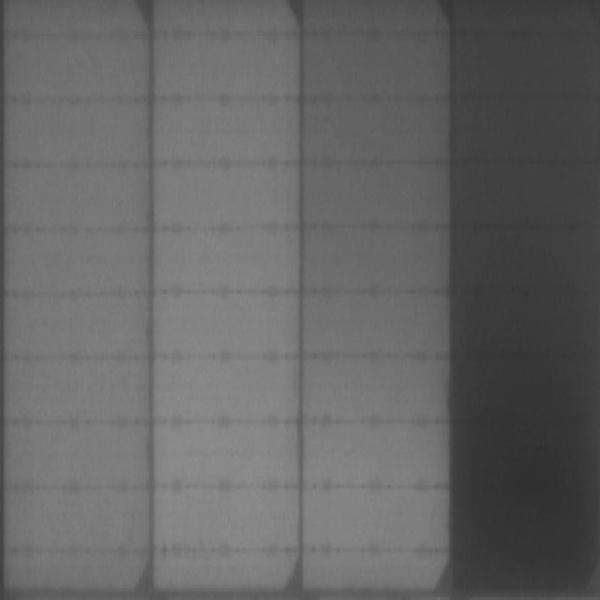no_electricity: (453, 346, 600, 600)
